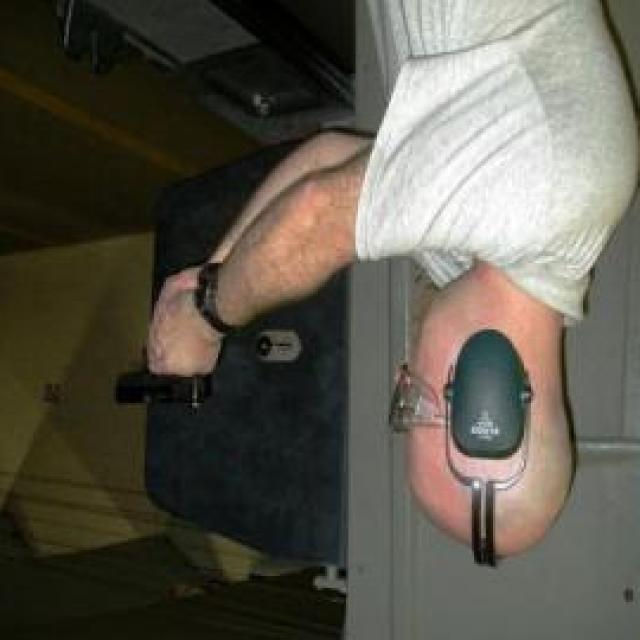pistol: (114, 344, 213, 410)
